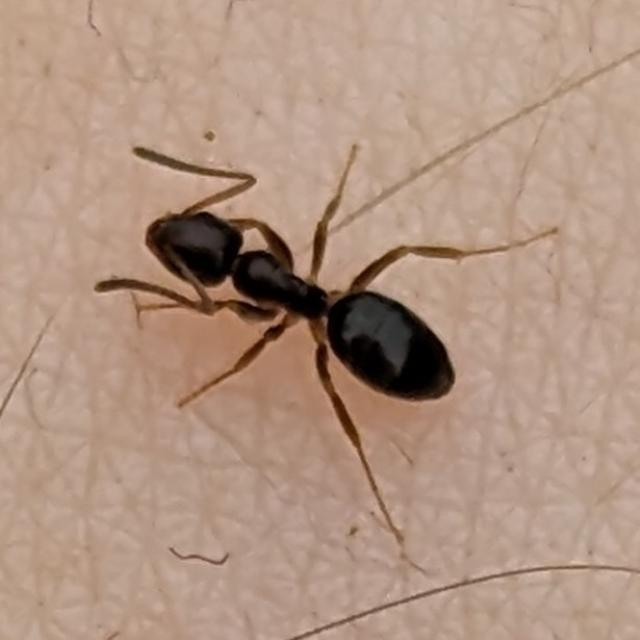Tapinoma: (107, 146, 491, 450)
